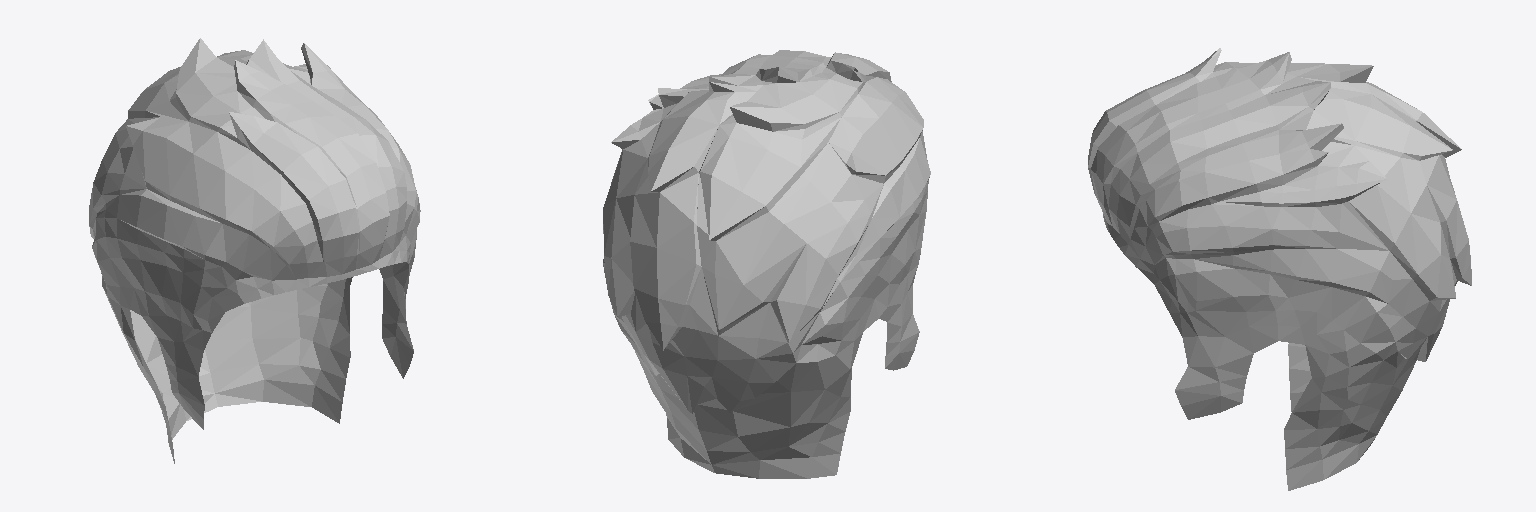
Rendered from hair1_obj.obj.
3 renders of one model, left to right at view 1: azimuth 30°, elevation 25°; view 2: azimuth 150°, elevation 25°; view 3: azimuth 270°, elevation 25°, orthographic.
Parts seen in each view (by area): view 1: s4studio_mesh_2_geom.003; view 2: s4studio_mesh_2_geom.003; view 3: s4studio_mesh_2_geom.003.
Boxes of the visible parts, x1=… form: s4studio_mesh_2_geom.003: x1=89, y1=38, x2=420, y2=463; s4studio_mesh_2_geom.003: x1=603, y1=50, x2=930, y2=478; s4studio_mesh_2_geom.003: x1=1088, y1=48, x2=1471, y2=490.
Bounding box in the file's own units: 6.11 × 9.15 × 8.11.